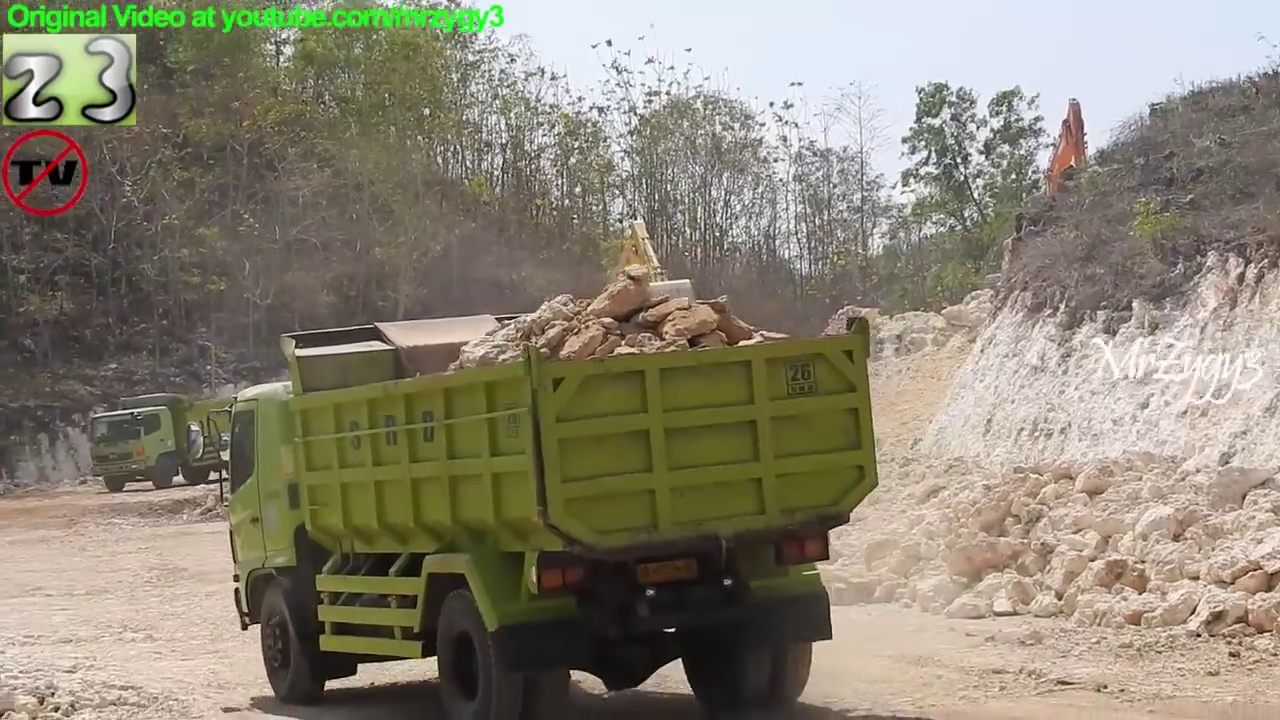excavator: (1022, 99, 1120, 261)
truck: (185, 310, 885, 720), (75, 392, 279, 495)
